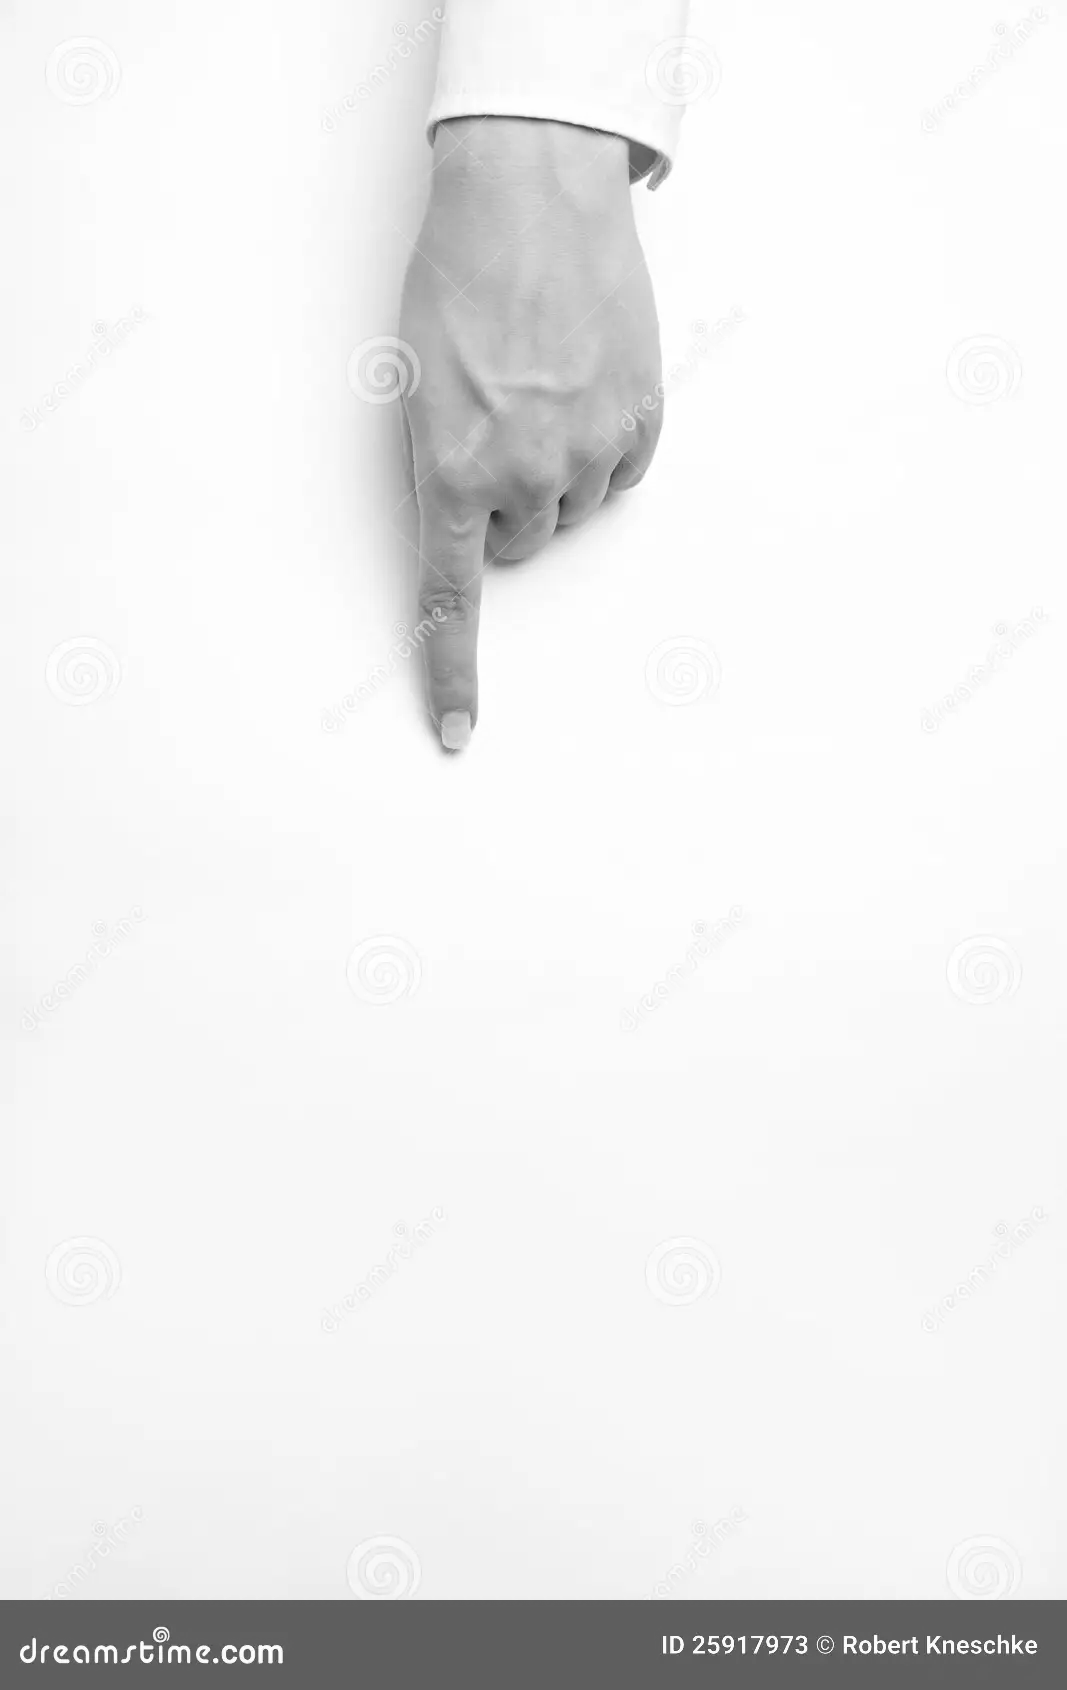pointing_gesture: (397, 149, 663, 758)
